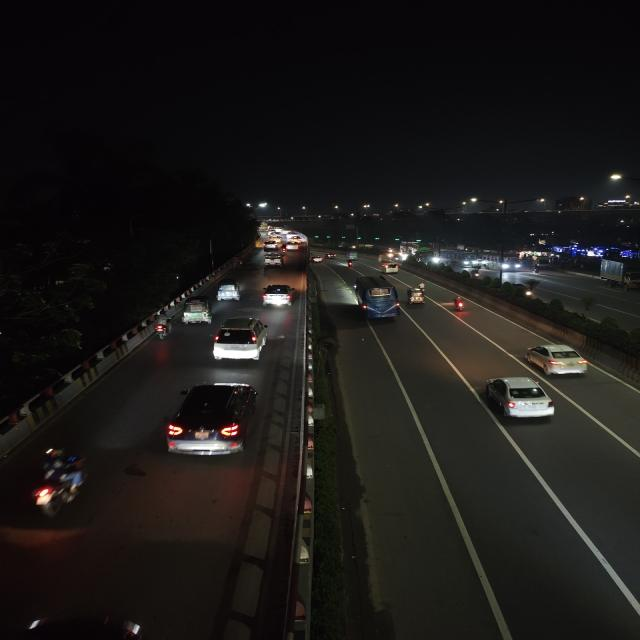bus: (353, 276, 403, 324), (485, 252, 524, 272), (442, 250, 478, 269)
car: (159, 380, 262, 461), (480, 374, 559, 426), (208, 315, 270, 364), (523, 341, 592, 379), (258, 283, 297, 309), (262, 252, 286, 268), (379, 262, 400, 275), (262, 241, 280, 252), (283, 240, 299, 252)
cng: (180, 296, 213, 326), (214, 279, 243, 303), (406, 288, 428, 307)
motorcycle: (22, 446, 91, 522), (149, 312, 175, 342), (449, 294, 469, 314), (416, 278, 428, 292), (345, 258, 356, 270)
truck: (599, 257, 639, 292)
